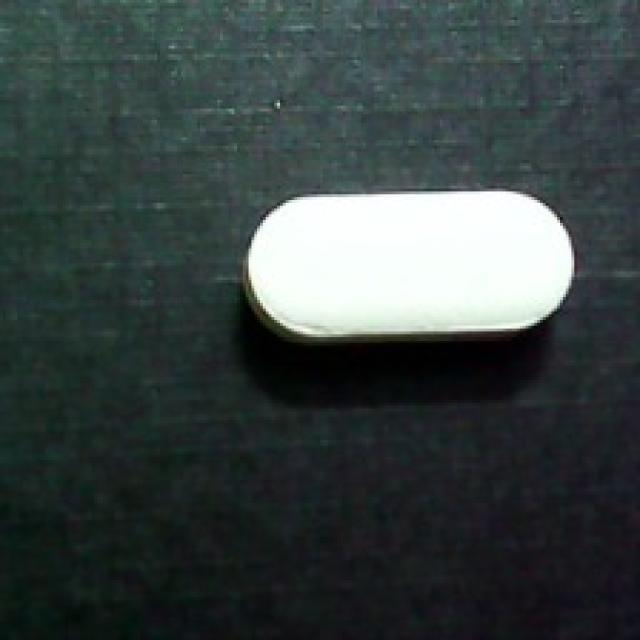no-defect: (237, 189, 580, 351)
